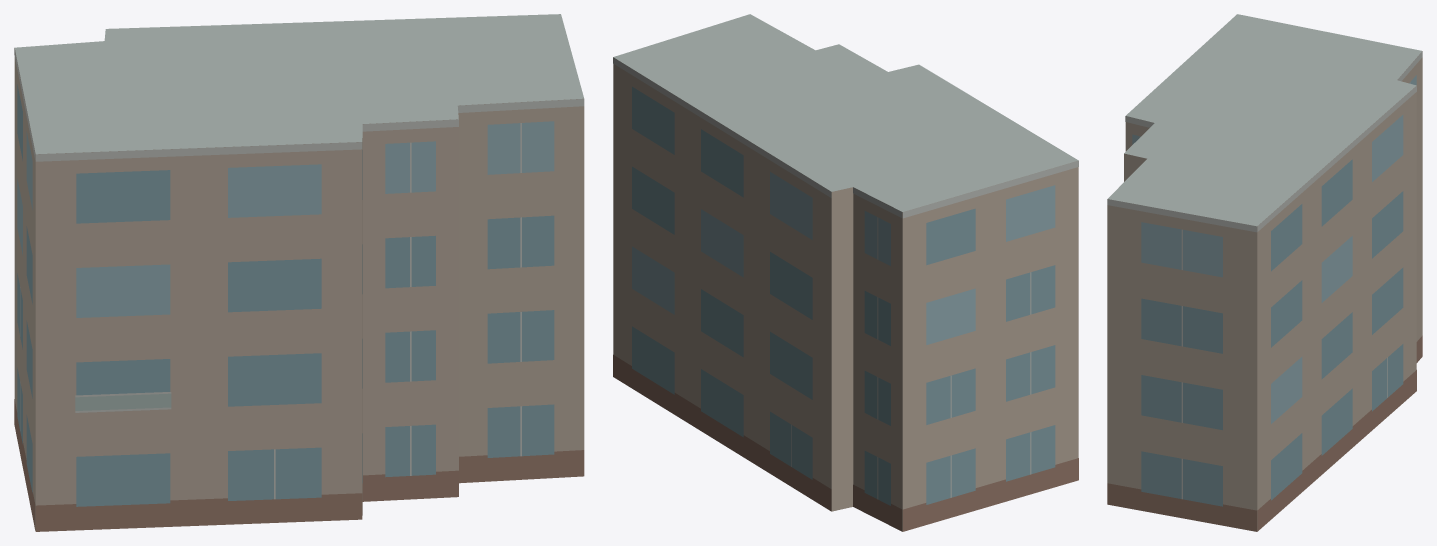
File: survey-upis-32911050.glb
3 renders of one model, left to right at view 1: azimuth 30°, elevation 25°; view 2: azimuth 150°, elevation 25°; view 3: azimuth 270°, elevation 25°, orthographic. The views are drawn at different scales.
Parts seen in each view (by area): view 1: survey-upis-32911050.tmp; view 2: survey-upis-32911050.tmp; view 3: survey-upis-32911050.tmp.
Boxes of the visible parts, bbox=[...] form: survey-upis-32911050.tmp: bbox=[14, 14, 584, 531]; survey-upis-32911050.tmp: bbox=[613, 14, 1078, 531]; survey-upis-32911050.tmp: bbox=[1107, 14, 1422, 531].
Bounding box in the file's own units: 18.19 × 12.2 × 11.41.
